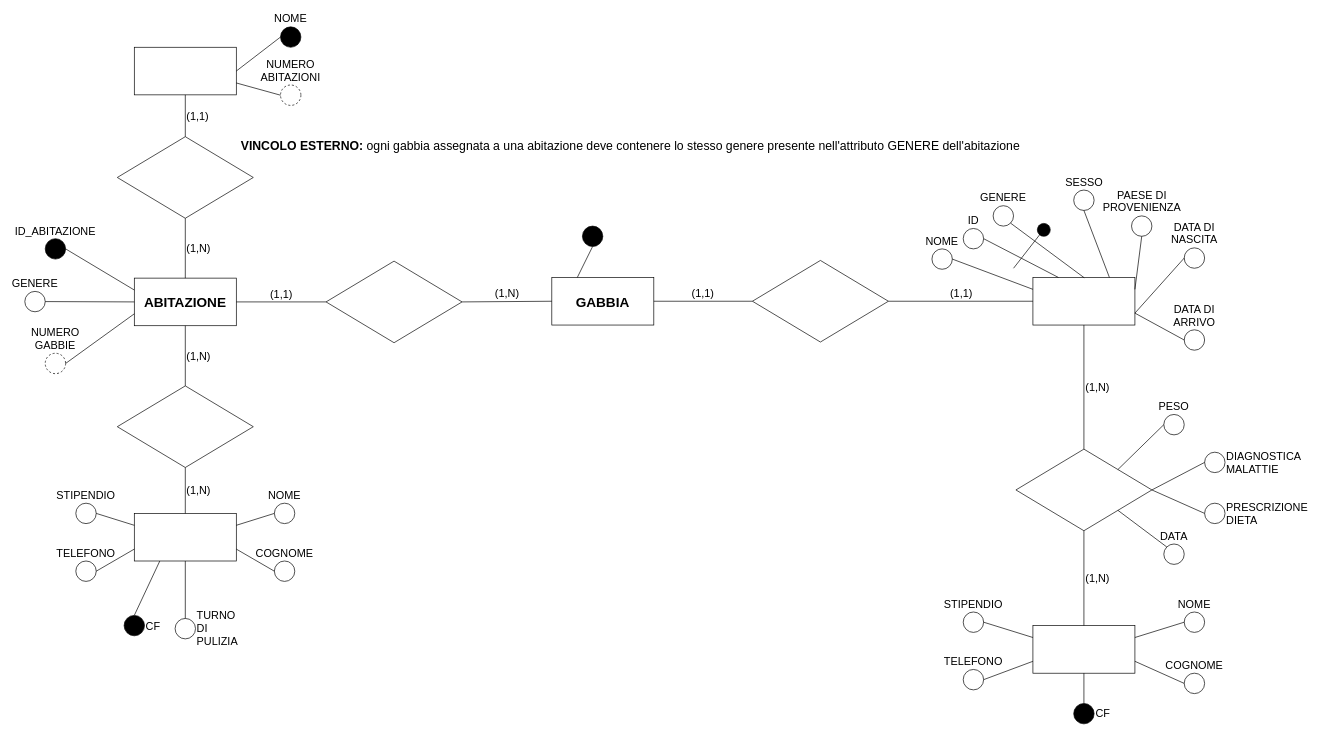
The diagram is 1319 pixels wide and 736 high, and some of its shapes have lost their labels. Each missing label, with the centre of its shape:
ADDETTO PULIZIE: (185,537)
APPARTIENE A: (185,177)
AREA: (185,71)
ASSEGNATA: (393,301)
CONTENUTO IN: (820,301)
ESEMPLARE: (1083,301)
ID_GABBIA: (592,236)
PULIRE: (185,426)
VETERINARIO: (1083,649)
VISITARE: (1083,489)
